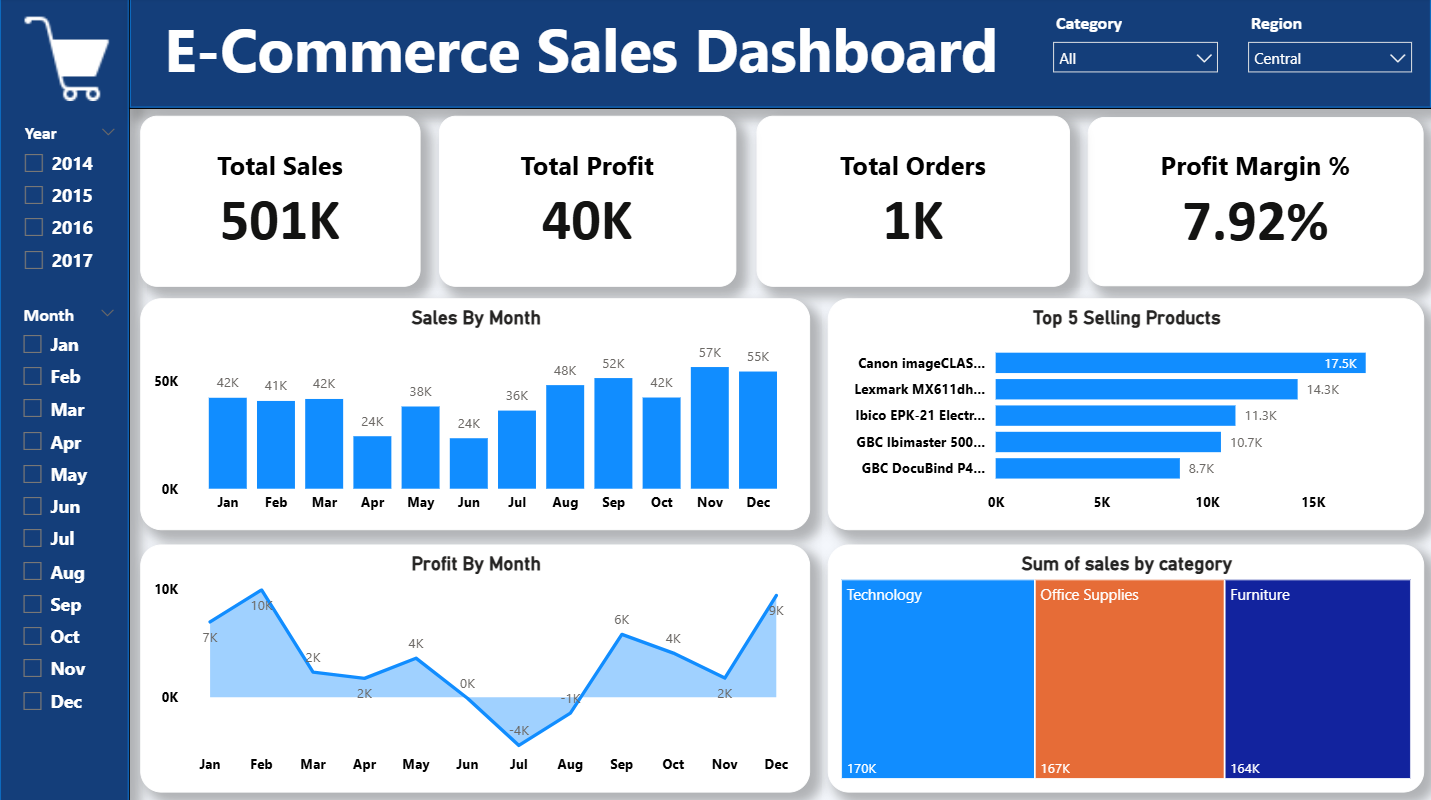

What the dashboard file says about the page in this screenshot:
{"tool":"powerbi","page":{"name":"Page 1","canvas":[1280,720],"ordinal":0},"visuals":[{"type":"shape","box":[0,0,117.1,720],"z":0},{"type":"image","box":[147.1,21.4,84.3,77.1],"z":1000},{"type":"shape","box":[115.7,0,1164.3,100],"z":2000},{"type":"slicer","fields":{"Values":["cleaned_dataset.Year"]},"box":[10,106.7,106.7,153.3],"z":3000},{"type":"textbox","box":[117.1,4.3,805.7,91.4],"z":4000},{"type":"slicer","fields":{"Values":["cleaned_dataset.Month"]},"box":[8.6,268.6,107.1,444.3],"z":5000},{"type":"slicer","fields":{"Values":["cleaned_dataset.category"]},"box":[931.4,8.6,167.9,90.7],"z":6000},{"type":"slicer","fields":{"Values":["cleaned_dataset.region"]},"box":[1105.7,8.6,166.4,90.7],"z":7000},{"type":"cardVisual","fields":{"Data":["cleaned_dataset.Total Sales"]},"box":[125.7,105.7,250,152.9],"z":8000},{"type":"cardVisual","fields":{"Data":["cleaned_dataset.Profit Margin %"]},"box":[972.9,107.1,300,151.4],"z":9000},{"type":"cardVisual","fields":{"Data":["cleaned_dataset.Total Orders"]},"box":[677.1,105.7,280,152.9],"z":10000},{"type":"cardVisual","fields":{"Data":["cleaned_dataset.Total Profit"]},"box":[392.9,105.7,265.7,152.9],"z":11000},{"type":"columnChart","title":"Sales By Month","fields":{"Y":["Sum(cleaned_dataset.sales)"],"Category":["cleaned_dataset.Month"]},"box":[125.7,268.6,598.6,207.1],"z":12000},{"type":"areaChart","title":"Profit By Month","fields":{"Category":["cleaned_dataset.Month"],"Y":["Sum(cleaned_dataset.profit)"]},"box":[125.7,488.6,598.6,221.4],"z":13000},{"type":"clusteredBarChart","title":"Top 5 Selling Products","fields":{"Category":["cleaned_dataset.product_name"],"Y":["Sum(cleaned_dataset.sales)"]},"box":[740,268.6,532.9,207.1],"z":14000},{"type":"treemap","fields":{"Group":["cleaned_dataset.category"],"Values":["Sum(cleaned_dataset.sales)"]},"box":[740,488.6,532.9,221.4],"z":15000},{"type":"image","box":[15.7,14.3,92.9,78.6],"z":16000}]}

Visuals, with their boxes in screenshot pixels (x1, y1, x2, y2), scaled from the page's 1280x720 canvas onto the 1431x800 screenshot:
shape: rect(0, 0, 131, 799)
image: rect(164, 24, 259, 109)
shape: rect(129, 0, 1430, 111)
slicer - cleaned_dataset.Year: rect(11, 119, 130, 289)
textbox: rect(131, 5, 1032, 106)
slicer - cleaned_dataset.Month: rect(10, 298, 129, 792)
slicer - cleaned_dataset.category: rect(1041, 10, 1229, 110)
slicer - cleaned_dataset.region: rect(1236, 10, 1422, 110)
cardVisual - cleaned_dataset.Total Sales: rect(141, 117, 420, 287)
cardVisual - cleaned_dataset.Profit Margin %: rect(1088, 119, 1423, 287)
cardVisual - cleaned_dataset.Total Orders: rect(757, 117, 1070, 287)
cardVisual - cleaned_dataset.Total Profit: rect(439, 117, 736, 287)
"Sales By Month" columnChart: rect(141, 298, 810, 529)
"Profit By Month" areaChart: rect(141, 543, 810, 789)
"Top 5 Selling Products" clusteredBarChart: rect(827, 298, 1423, 529)
treemap - cleaned_dataset.category x Sum(cleaned_dataset.sales): rect(827, 543, 1423, 789)
image: rect(18, 16, 121, 103)
